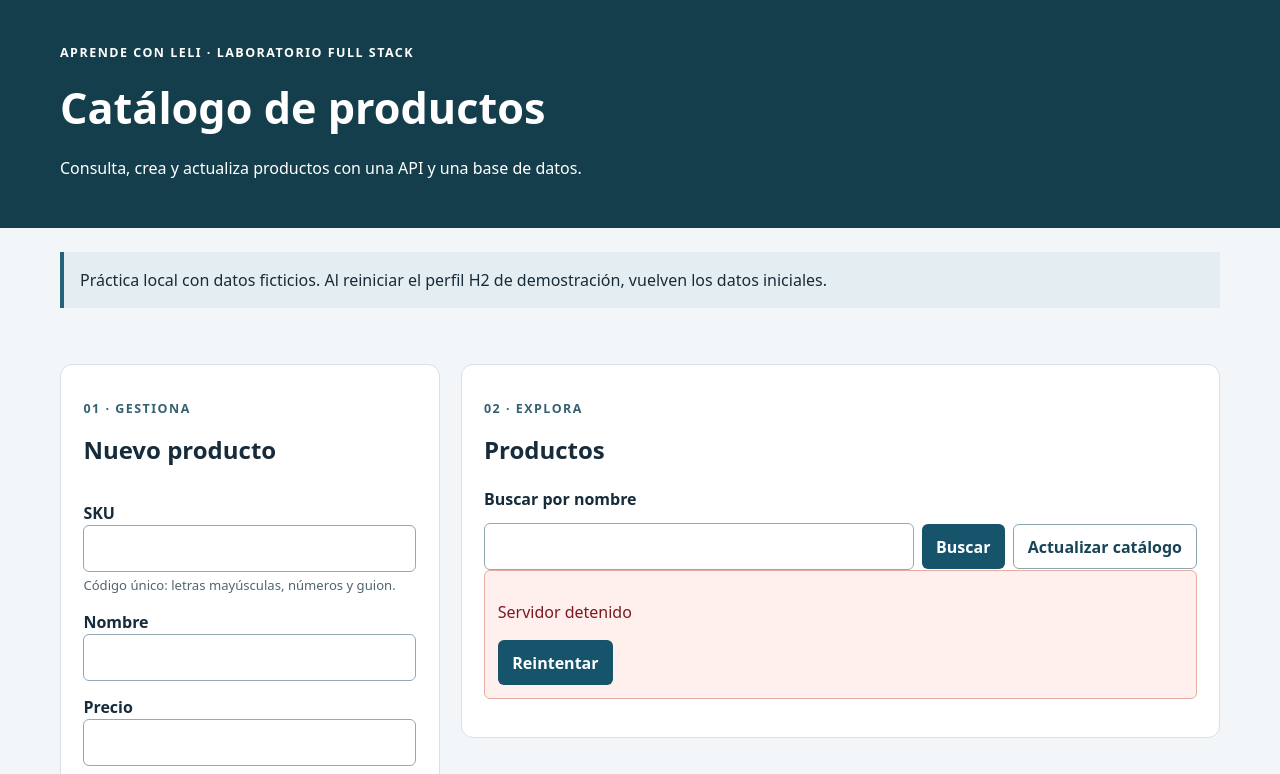
permite recuperarse de una caída al reintentar
The image size is (1280, 774).
Expected: the text "Servidor detenido" is shown, top-left (498, 601), bottom-right (632, 623)
Click the button "Reintentar": point(555, 663) top-left (498, 640), bottom-right (613, 685)
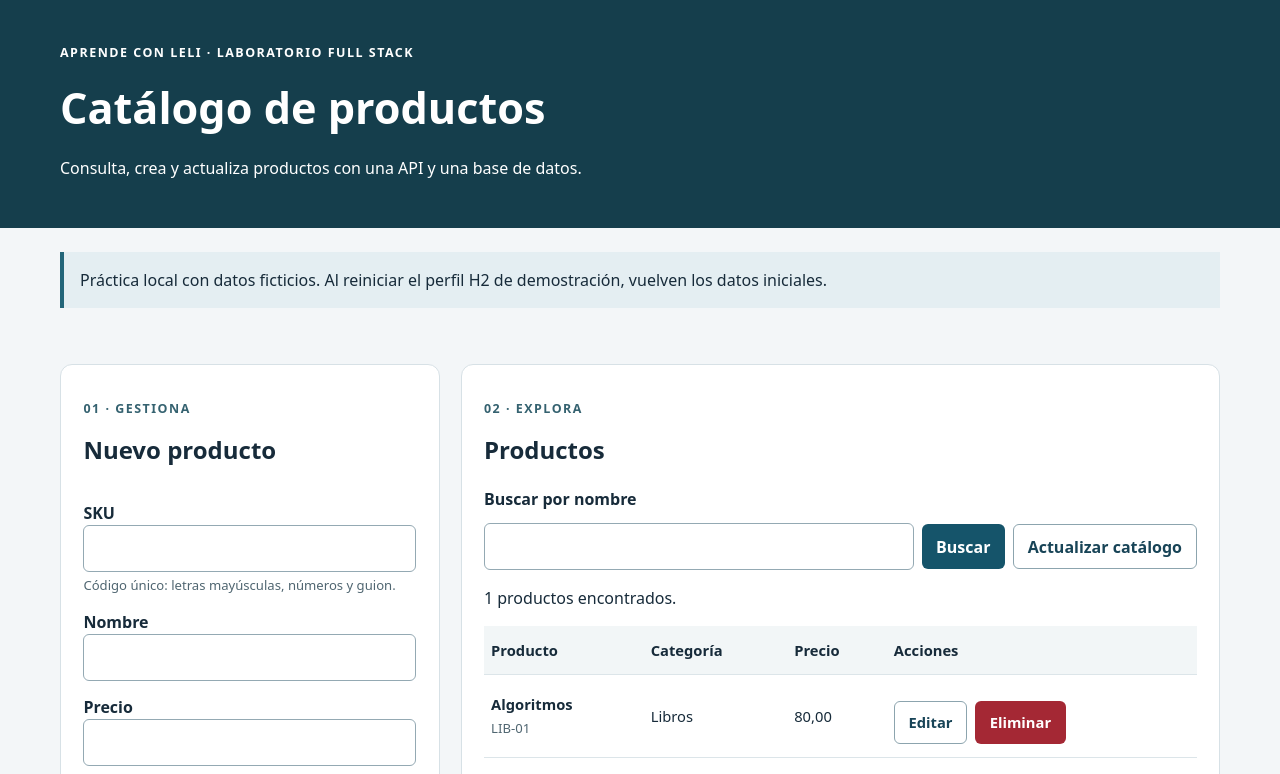
Result: the button with aria-label "Editar Algoritmos" is shown at top-left (894, 700), bottom-right (967, 744)
Result: the message "Servidor detenido Reintentar" is gone
